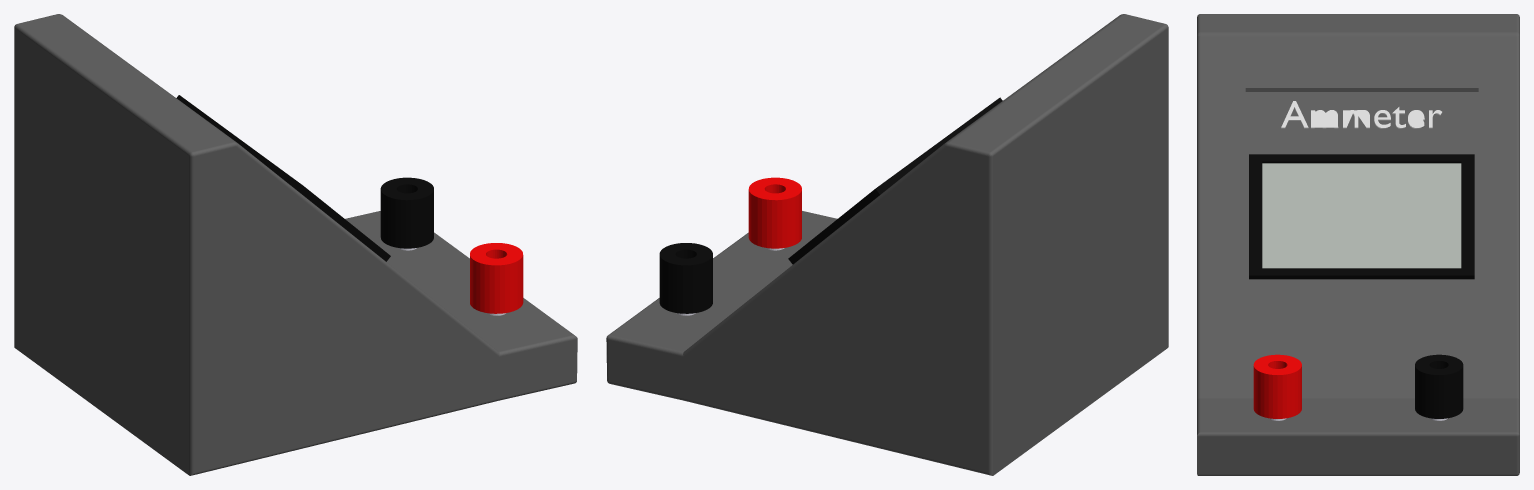
Rendered from AmmeterNew.fbx.
The picture shows the model from 3 angles, left to right: view 1: azimuth 30°, elevation 25°; view 2: azimuth 150°, elevation 25°; view 3: azimuth 270°, elevation 25°; orthographic projection. The views are drawn at different scales.
Visible parts, largest first — view 1: Body, Negative, positive, frame; view 2: Body, positive, Negative, frame; view 3: Body, Plane, frame, Negative, positive, Text.
Part boxes in pixels (bbox=[...]): Body: bbox=[14, 14, 577, 475]; Negative: bbox=[380, 177, 433, 248]; positive: bbox=[470, 243, 523, 313]; frame: bbox=[176, 95, 390, 261]; Body: bbox=[606, 14, 1168, 475]; positive: bbox=[748, 177, 801, 248]; Negative: bbox=[659, 243, 712, 313]; frame: bbox=[788, 97, 1002, 264]; Body: bbox=[1197, 14, 1519, 475]; Plane: bbox=[1262, 163, 1461, 268]; frame: bbox=[1249, 154, 1474, 279]; Negative: bbox=[1415, 354, 1463, 418]; positive: bbox=[1253, 354, 1301, 418]; Text: bbox=[1281, 101, 1442, 128].
Size of the model in its own units: 2.5 by 2.01 by 2.
